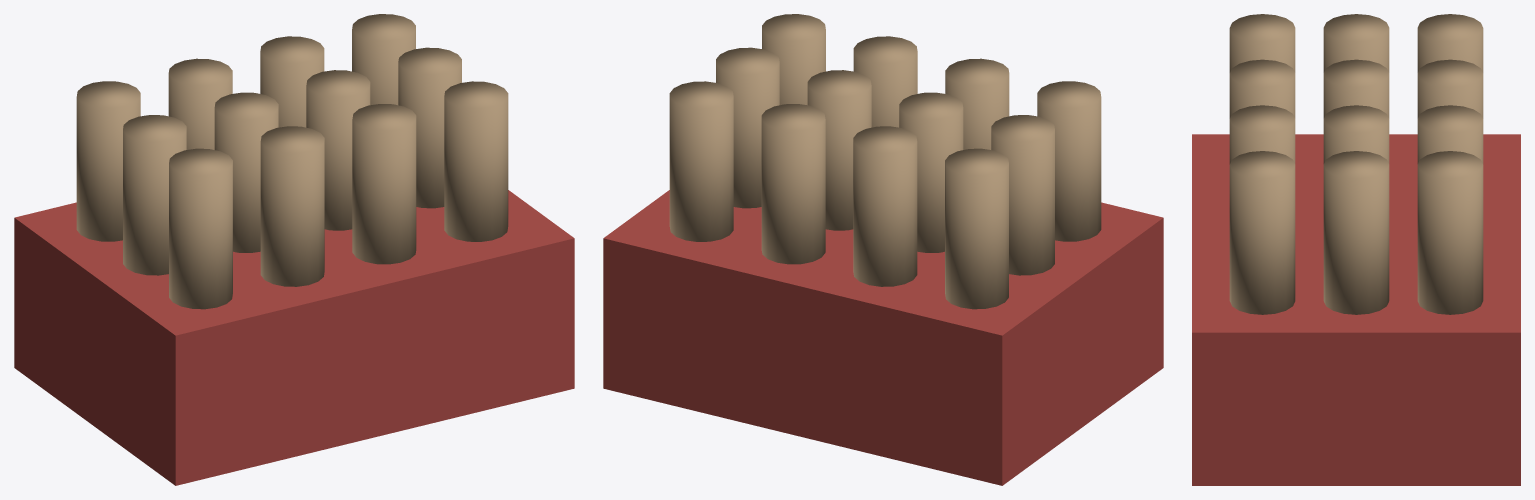
The model's file is prop_beer_case.glb.
3 renders of one model, left to right at view 1: azimuth 30°, elevation 25°; view 2: azimuth 150°, elevation 25°; view 3: azimuth 270°, elevation 25°, orthographic.
Visible parts, largest first — view 1: beer_case; view 2: beer_case; view 3: beer_case.
Part boxes in pixels (x1,y1,x2,y2): beer_case: (14,14,574,485); beer_case: (603,14,1163,485); beer_case: (1192,14,1520,485).
Bounding box in the file's own units: 1 × 0.68 × 0.7.
